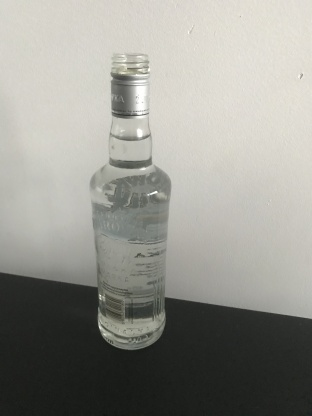nakretka: (108, 51, 151, 119)
